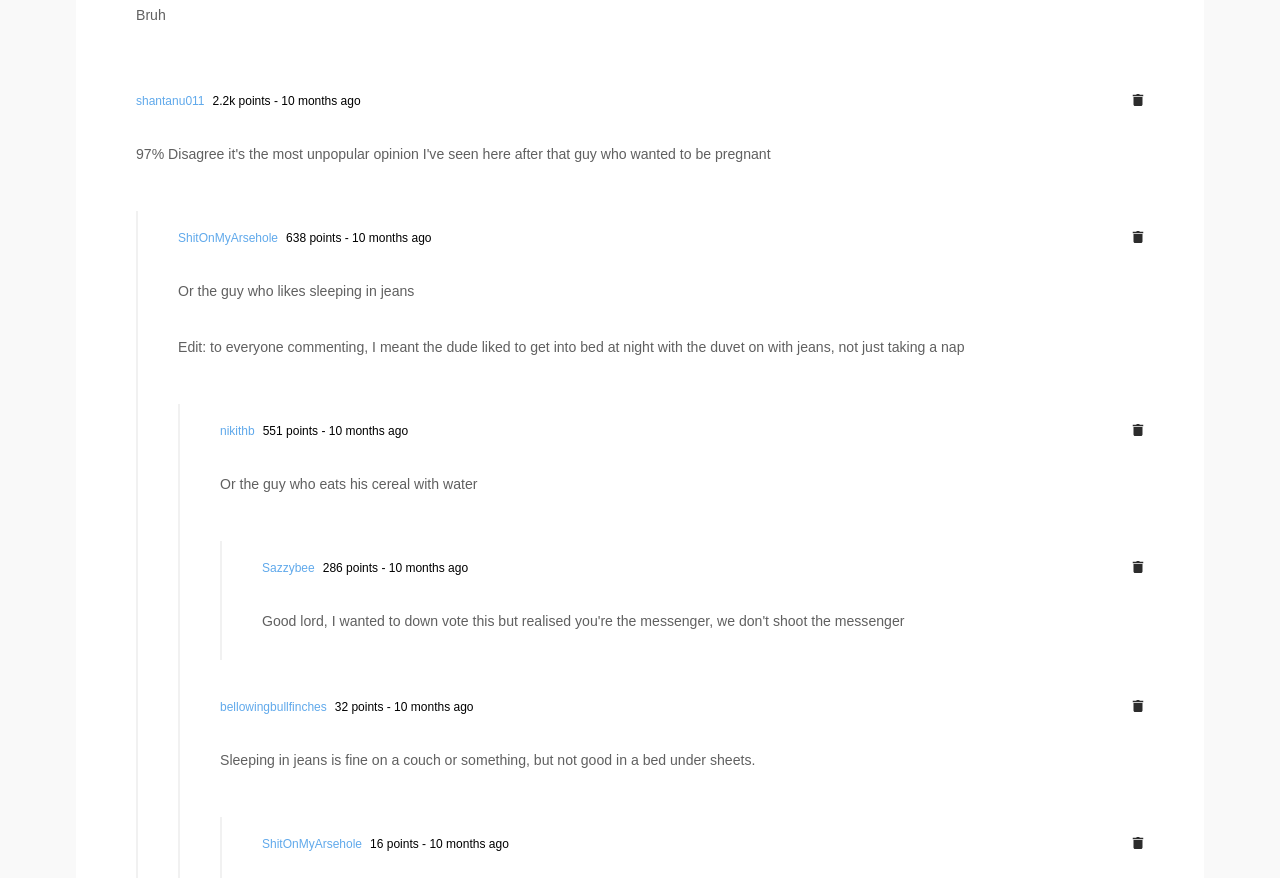
Test: When comment is deleted, then delete it and its children
The width and height of the screenshot is (1280, 878).
(page scrolled)
What coordinates should you click on to do the following:
click the button with test id "delete-comment-t1_f369ye5"
I would click on:
 (1138, 431)
Its box is [1132,424,1144,439].
(page scrolled)
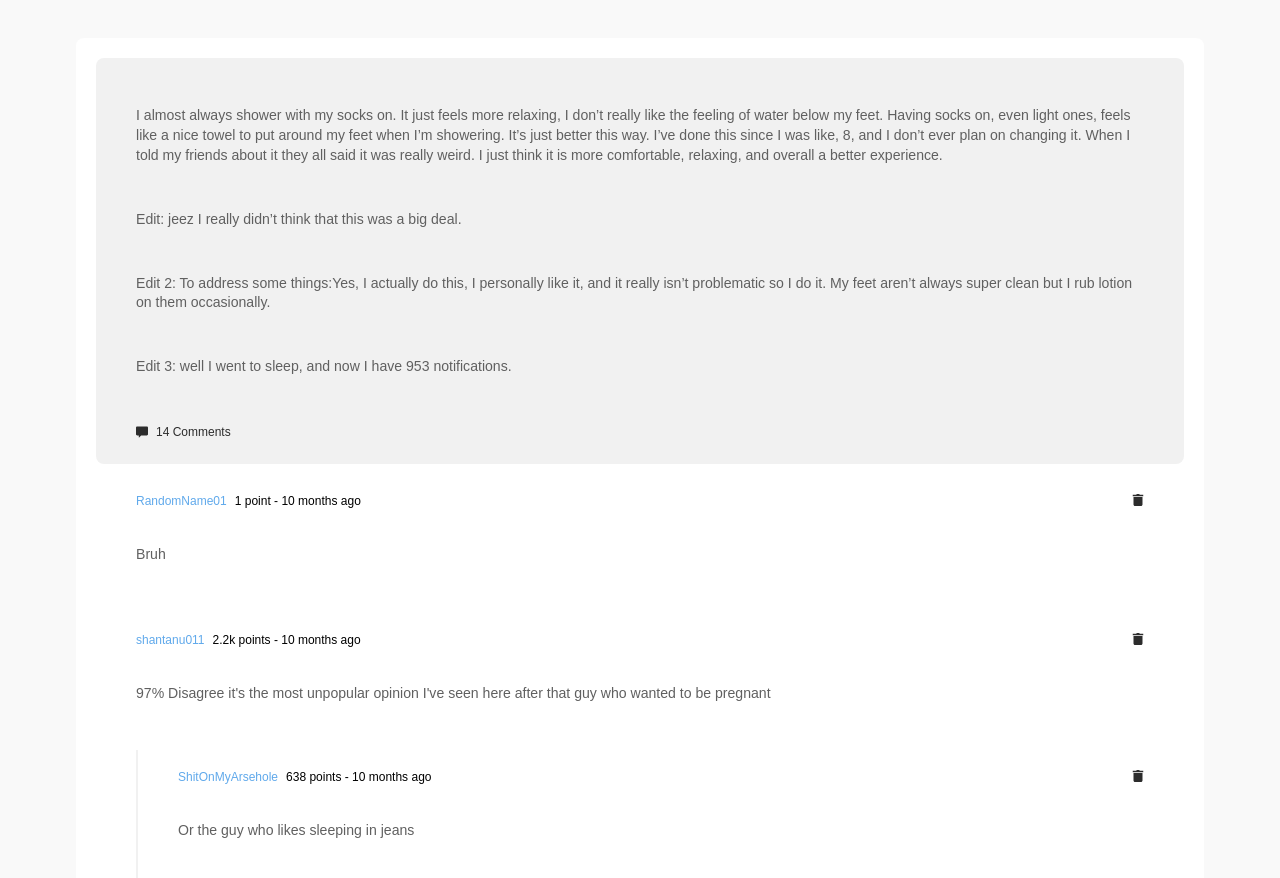
Now the button with test id "delete-comment-t1_f369ye5" is gone
Now the text "14 Comments" is shown, box [156,425,231,439]
